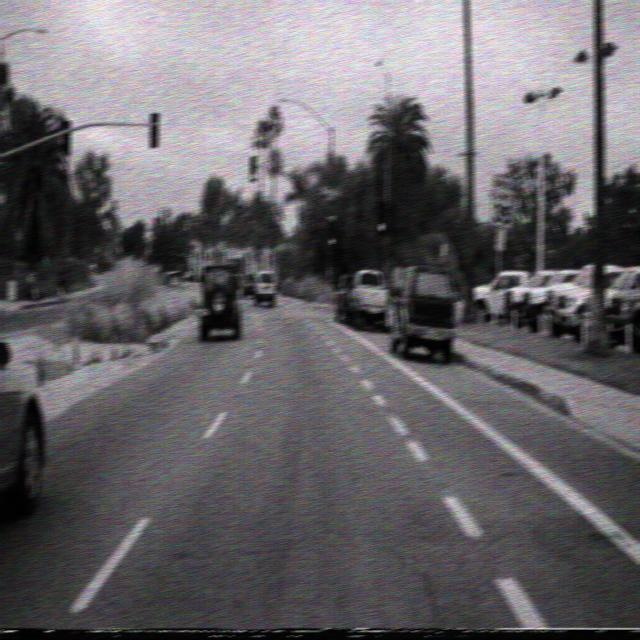speedLimit35: (489, 170, 516, 230)
